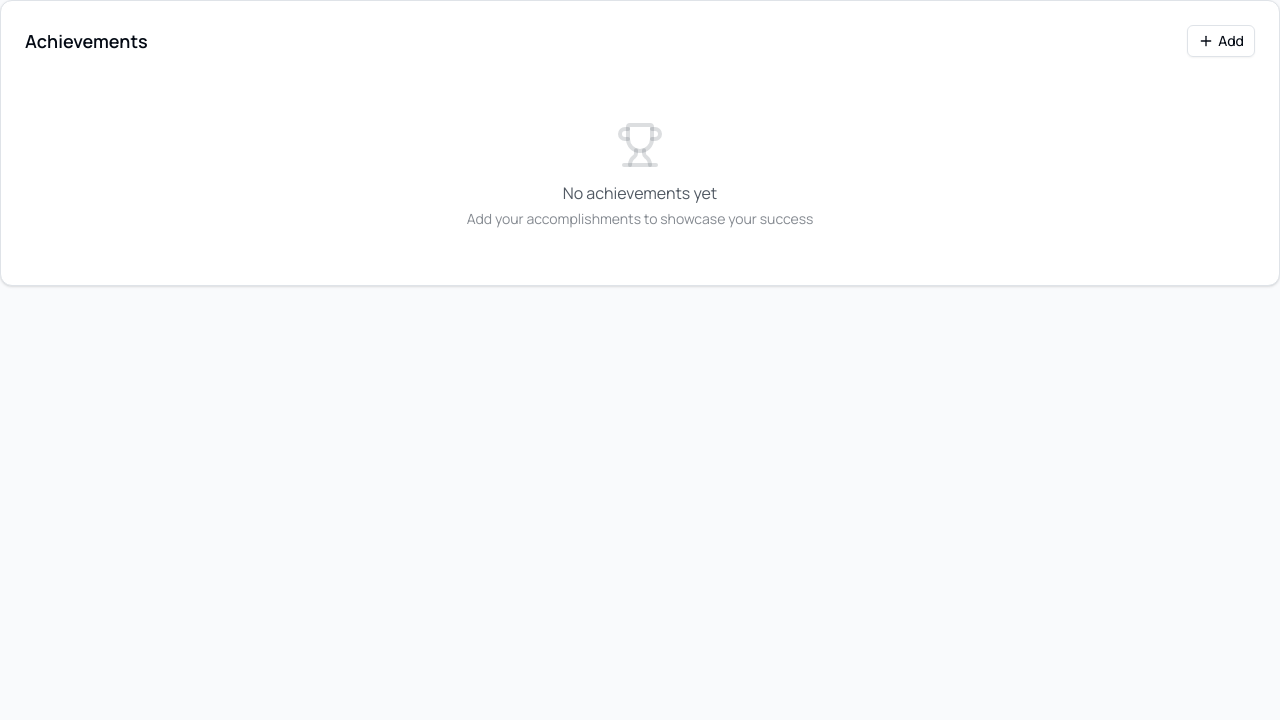
Test: AchievementsSection › opens add dialog when Add button clicked
The width and height of the screenshot is (1280, 720).
Click the button "Add" at (1221, 41), box [1187,25,1255,57]
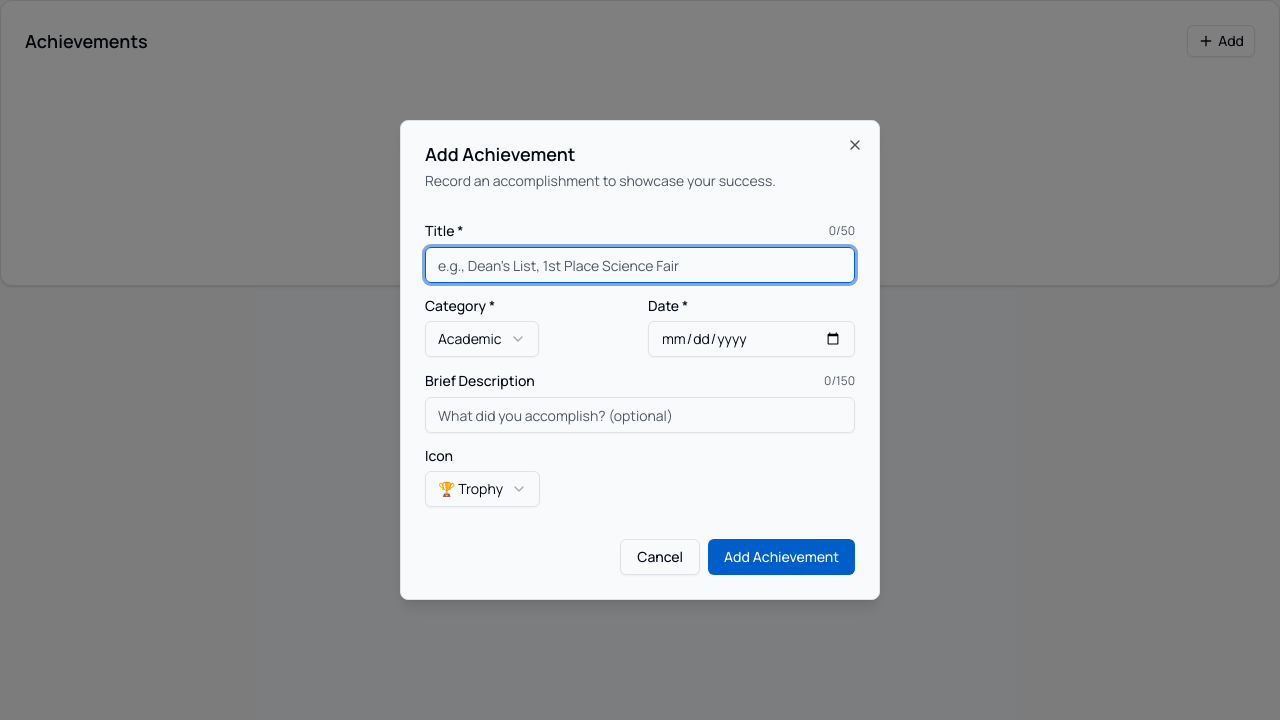
Expected: the dialog is shown, [400,120,880,600]
